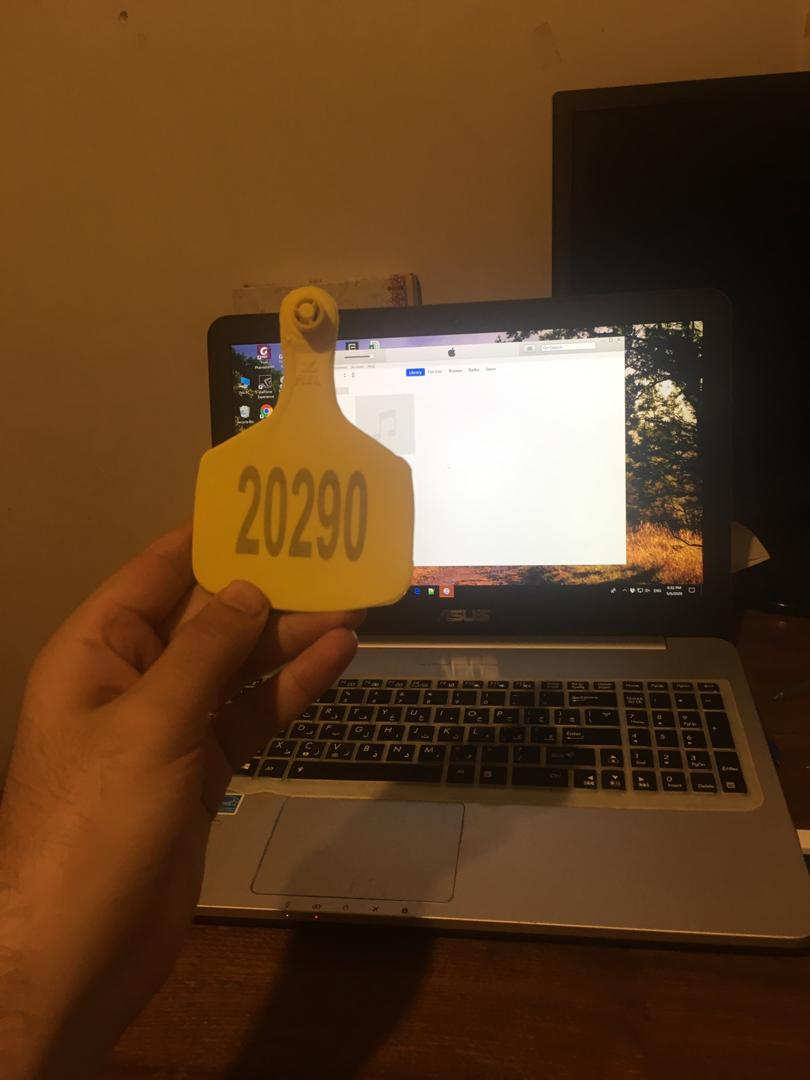digit: (233, 466, 372, 568)
